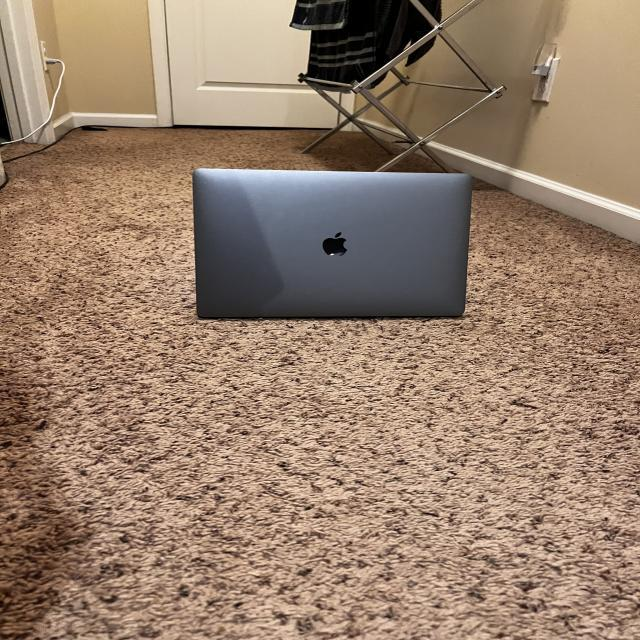laptop: (191, 166, 472, 319)
